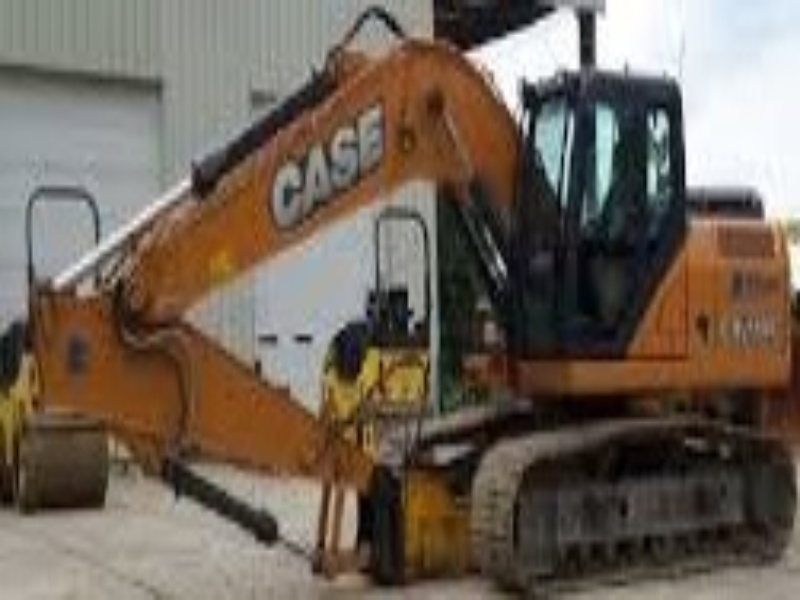wajueji: (274, 13, 800, 588)
